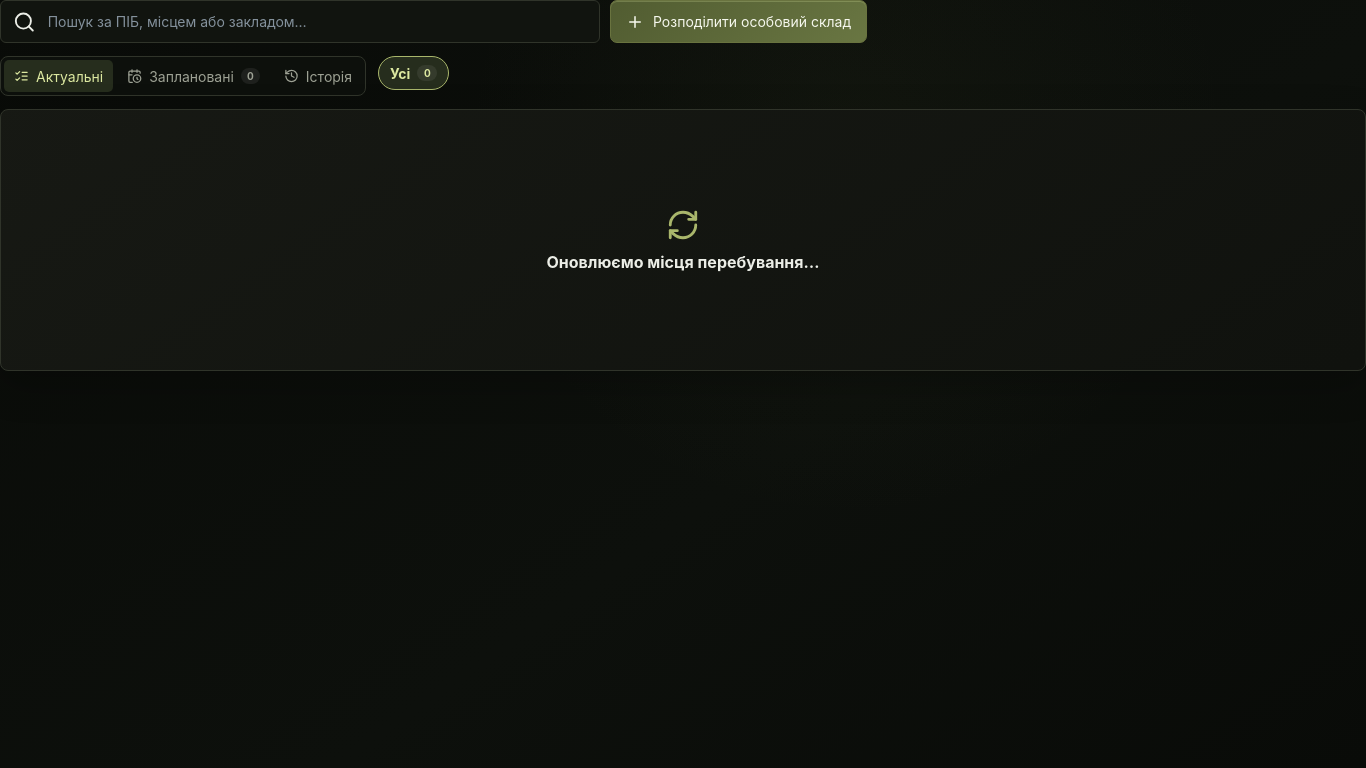
Test: PersonnelControl › does not offer a person whose location is controlled automatically
Click the button "Розподілити особовий склад". click: (739, 22)
box: [610, 0, 867, 43]
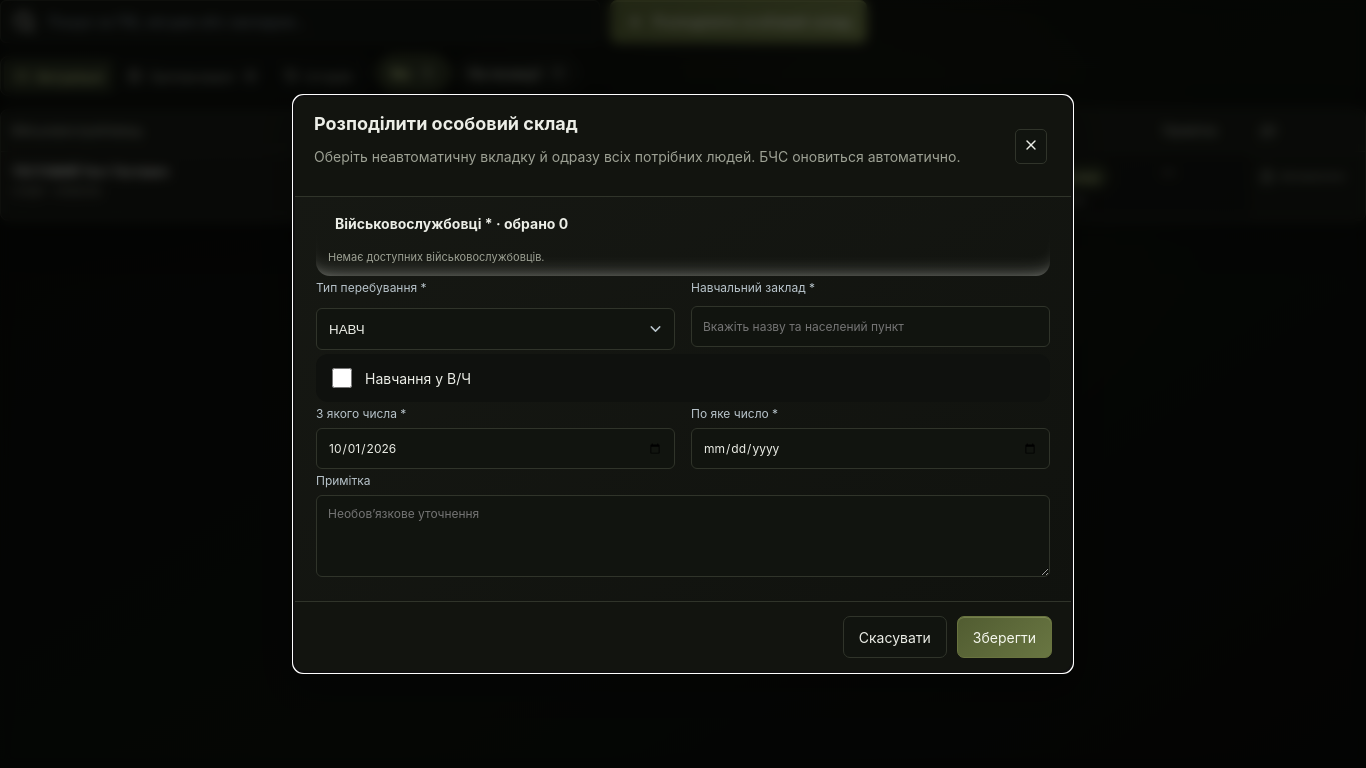
Check: the text "Немає доступних військовослужбовців." is shown, box [328, 250, 544, 264]
